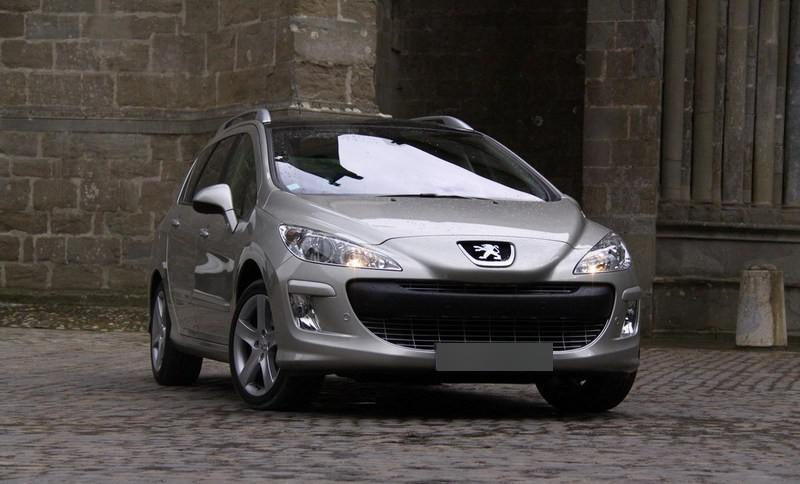Wagon: (146, 108, 643, 414)
